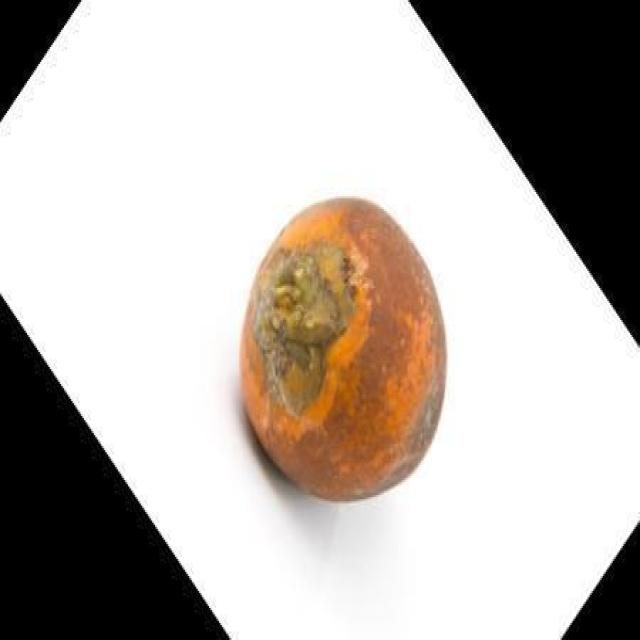good: (239, 196, 449, 506)
